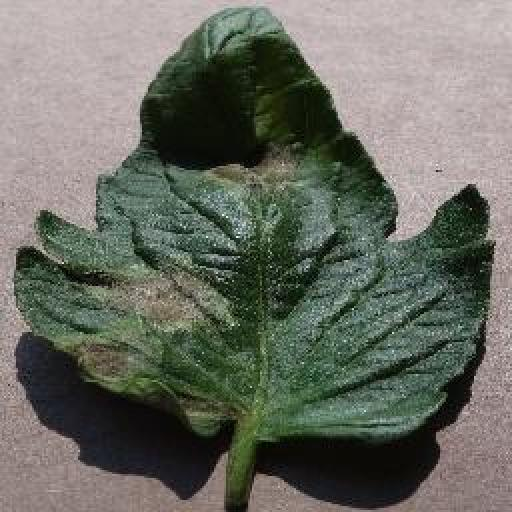Late Blight: (11, 4, 497, 445)
